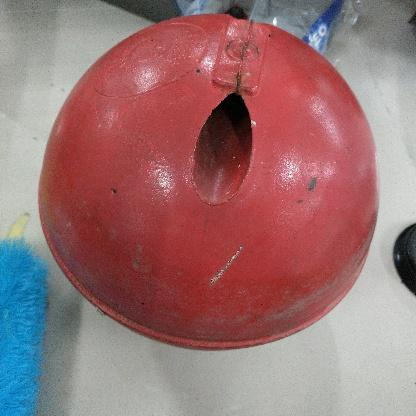red_buoy: (38, 10, 382, 354)
